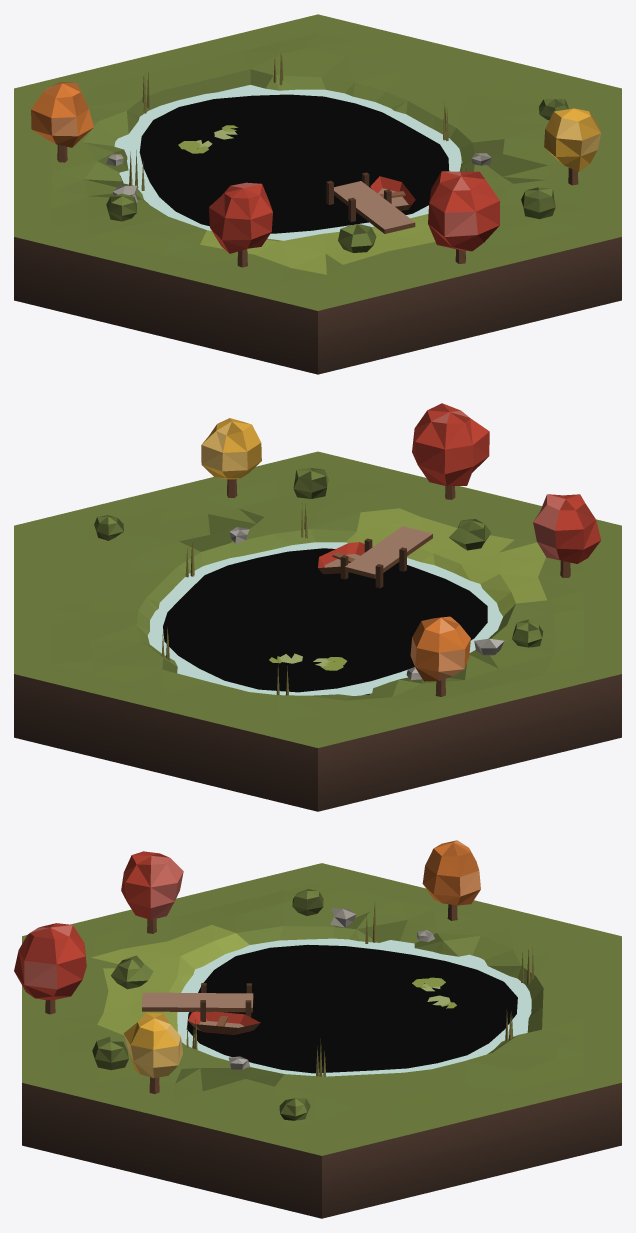
The model's file is SM_Tile_Lake_A.fbx.
3 renders of one model, top to bottom at view 1: azimuth 30°, elevation 25°; view 2: azimuth 150°, elevation 25°; view 3: azimuth 270°, elevation 25°, orthographic.
Visible parts, largest first — view 1: SM_Tile_Lake_A; view 2: SM_Tile_Lake_A; view 3: SM_Tile_Lake_A.
Part boxes in pixels (x1,y1,x2,y2): SM_Tile_Lake_A: [14, 14, 621, 374]; SM_Tile_Lake_A: [14, 403, 621, 811]; SM_Tile_Lake_A: [14, 840, 621, 1218].
Size of the model in its own units: 20 by 4.69 by 17.55.
